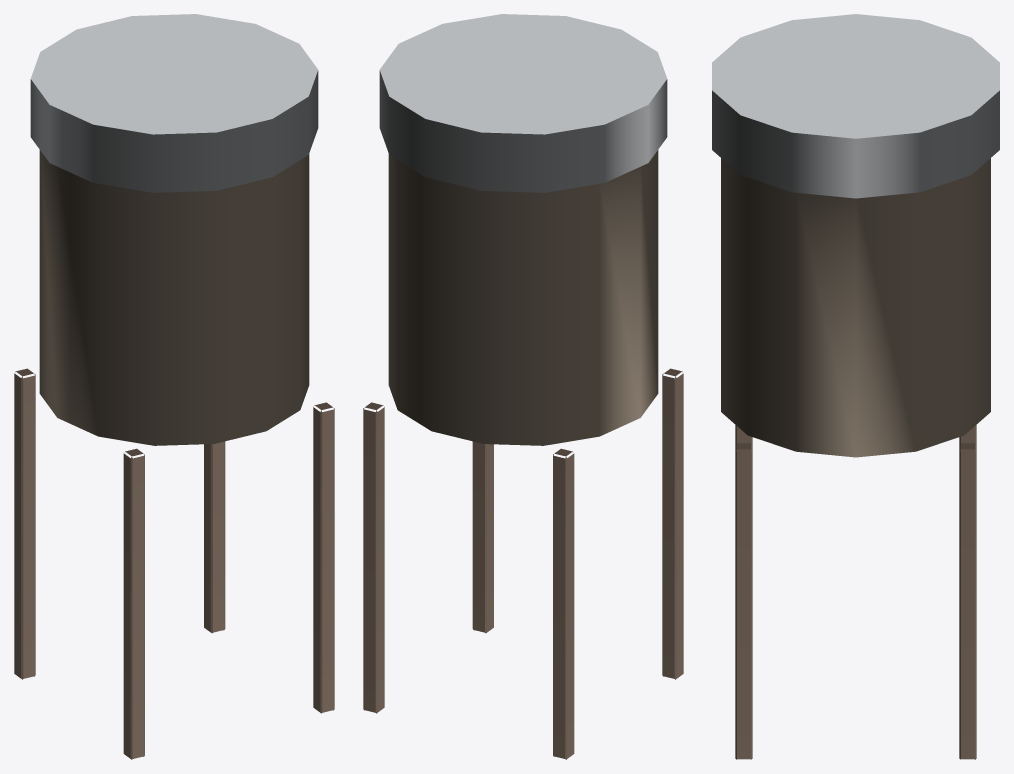
File: water_tank.glb
3 views of the same model, side by side, from view 1: azimuth 30°, elevation 25°; view 2: azimuth 150°, elevation 25°; view 3: azimuth 270°, elevation 25° (orthographic). The views are drawn at different scales.
Parts seen in each view (by area): view 1: props_water_tank; view 2: props_water_tank; view 3: props_water_tank.
Part boxes in pixels (x1,y1,x2,y2): props_water_tank: [14, 14, 334, 759]; props_water_tank: [363, 14, 683, 759]; props_water_tank: [712, 14, 999, 759].
Size of the model in its own units: 2.24 by 5.3 by 2.18.
